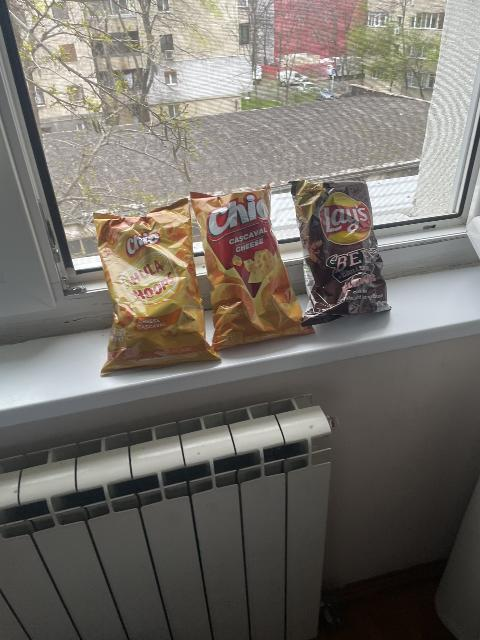Chio Cascaval 125g: (195, 185, 316, 348)
Chio Hula Hoops Cheese 70g: (92, 198, 217, 372)
Lays Beef Grilled Ribs 125g: (293, 179, 390, 322)
